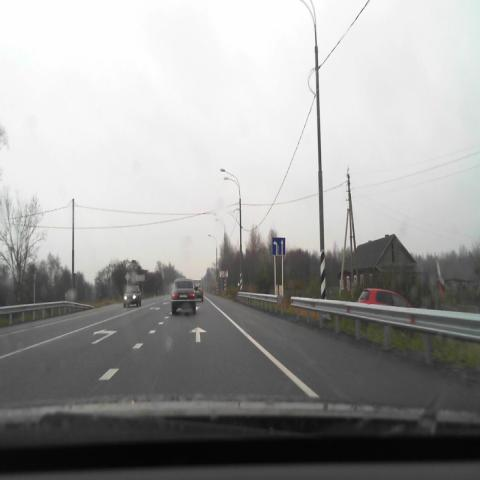5_15_2_2: (272, 238, 286, 256)
